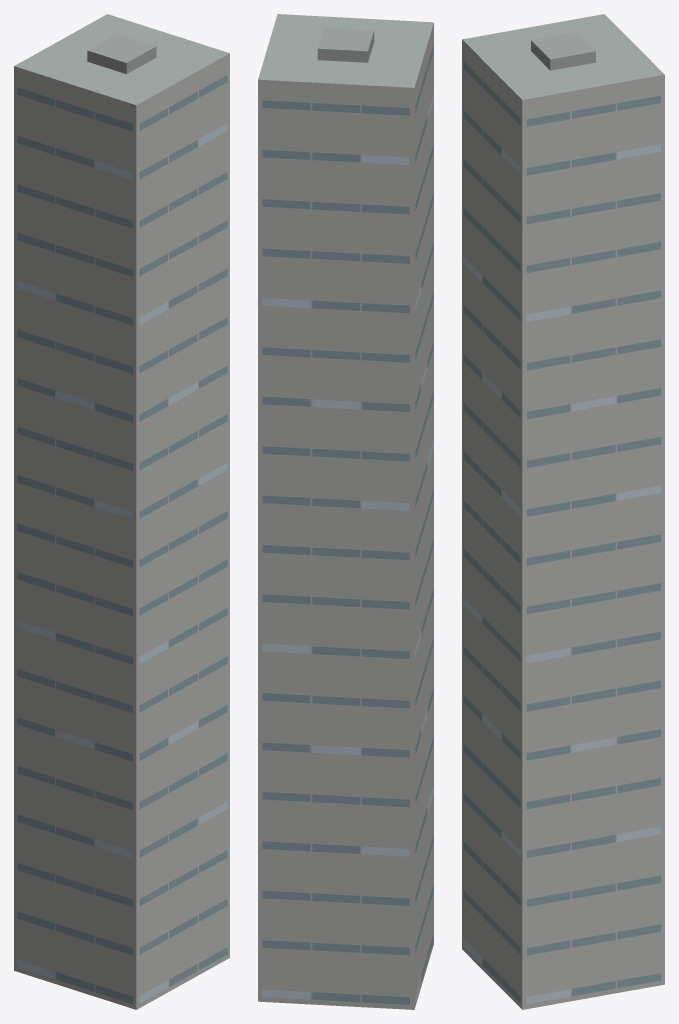
File: fallback-caelitus-101.glb
The picture shows the model from 3 angles, left to right: view 1: azimuth 30°, elevation 25°; view 2: azimuth 150°, elevation 25°; view 3: azimuth 270°, elevation 25°; orthographic projection.
Visible parts, largest first — view 1: fallback-caelitus-101; view 2: fallback-caelitus-101; view 3: fallback-caelitus-101.
Part boxes in pixels (x1,y1,x2,y2): fallback-caelitus-101: (14, 14, 229, 1009); fallback-caelitus-101: (258, 14, 433, 1009); fallback-caelitus-101: (462, 14, 664, 1009).
Bounding box in the file's own units: 39.22 × 196 × 39.11.
